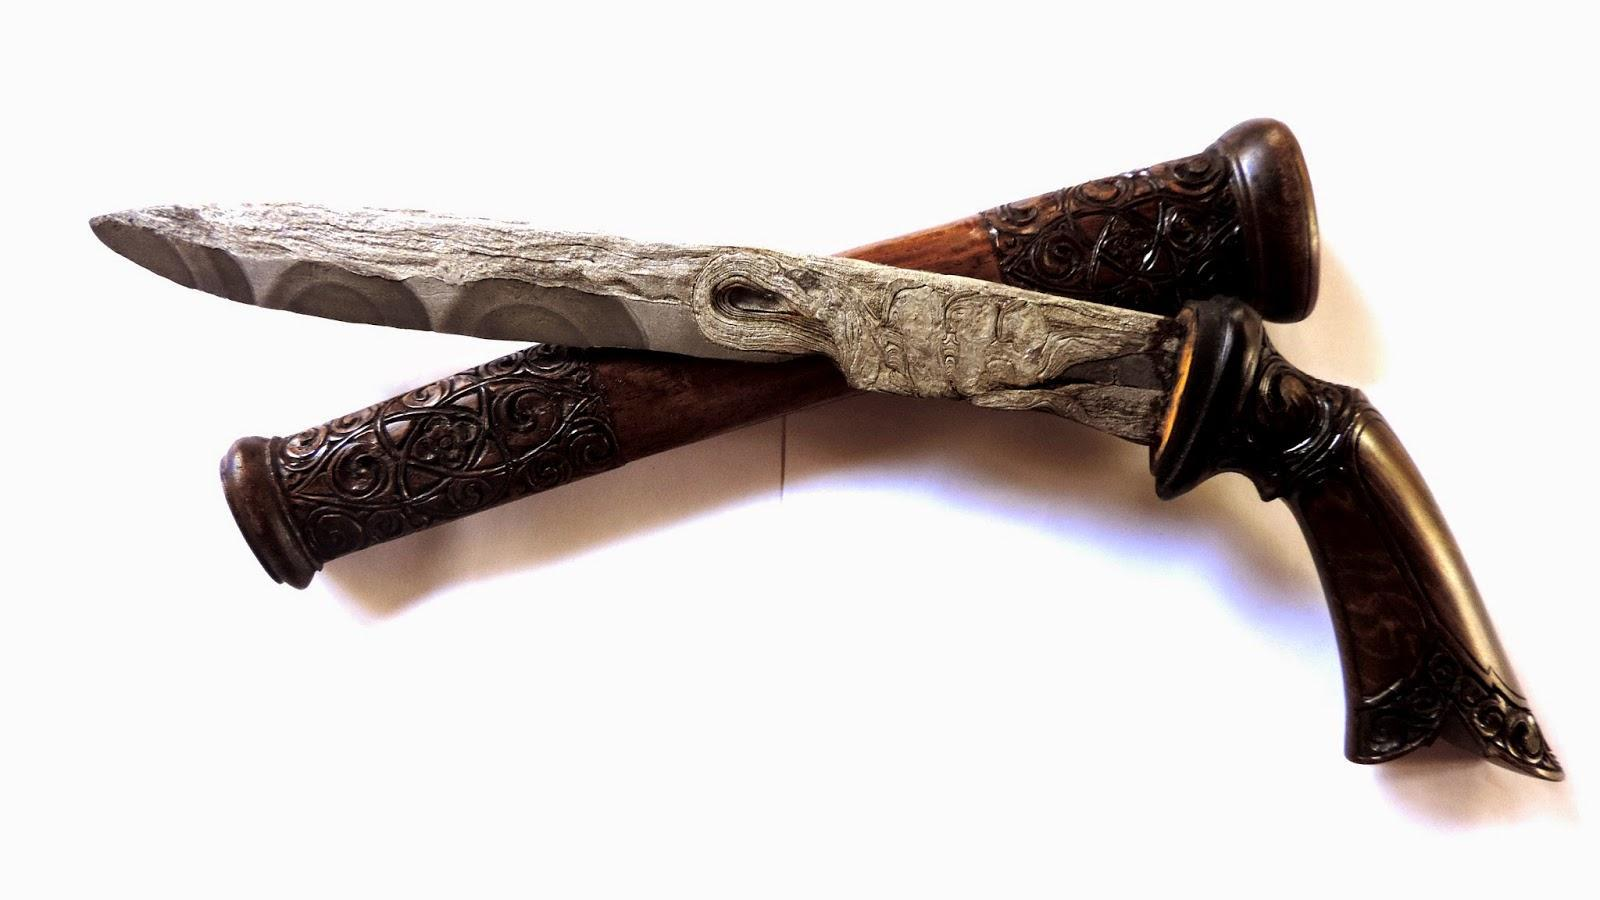facao: (62, 163, 1581, 767)
